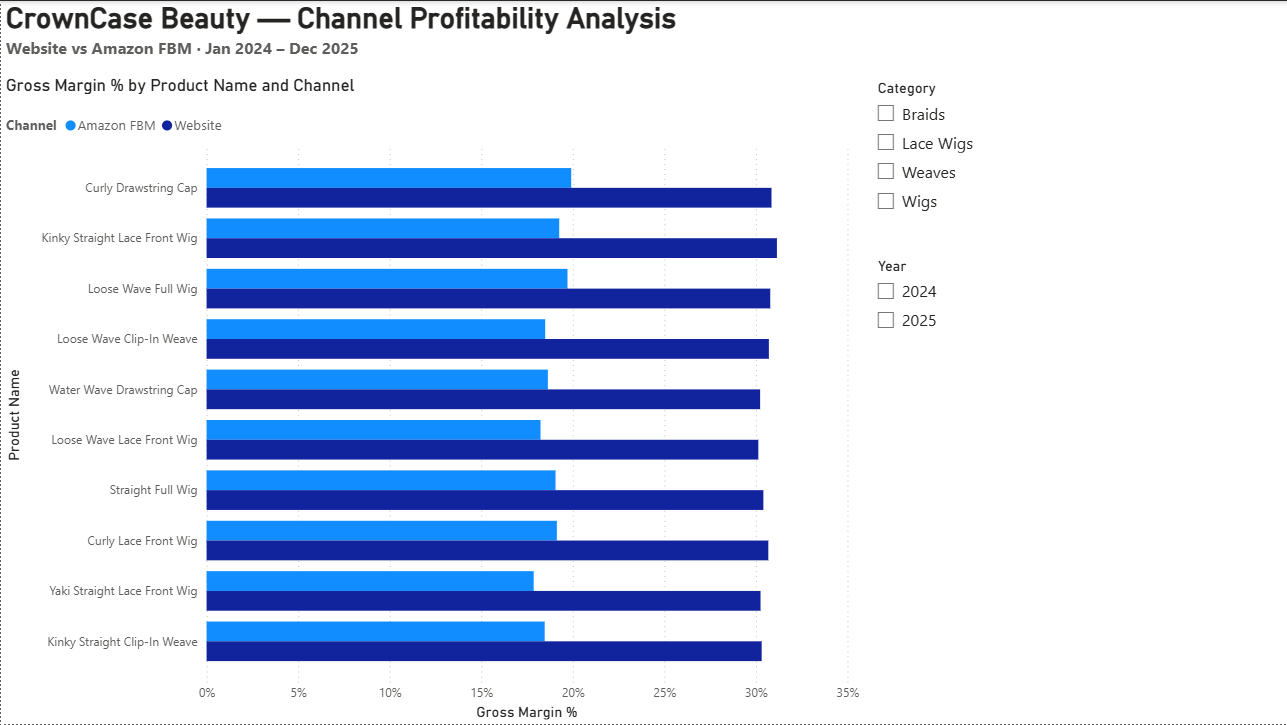

This screenshot's page, from the dashboard's own definition file:
{"tool":"powerbi","page":{"name":"Channel Comparison","canvas":[1280,720],"ordinal":1},"visuals":[{"type":"clusteredBarChart","fields":{"Category":["Dim_Products.Product Name"],"Y":["_Measures.Gross Margin %"],"Series":["Dim_Channels.Channel"]},"box":[0,73.4,859.6,646.9],"z":0},{"type":"slicer","fields":{"Values":["Dim_Products.Category"]},"box":[859.6,73.4,409.4,176.2],"z":1000},{"type":"slicer","fields":{"Values":["Dim_Date.Year"]},"box":[859.6,250,409.4,119.2],"z":2000},{"type":"textbox","title":"CrownCase Beauty — Channel Profitability Analysis","box":[0,0,1270.1,73.4],"z":3000}]}

Visuals, with their boxes in screenshot pixels (x1, y1, x2, y2), scaled from the page's 1280x720 canvas onto the 1287x725 screenshot:
clusteredBarChart - Dim_Products.Product Name x _Measures.Gross Margin %: BBox(0, 74, 864, 724)
slicer - Dim_Products.Category: BBox(864, 74, 1276, 251)
slicer - Dim_Date.Year: BBox(864, 252, 1276, 372)
"CrownCase Beauty — Channel Profitability Analysis" textbox: BBox(0, 0, 1277, 74)
